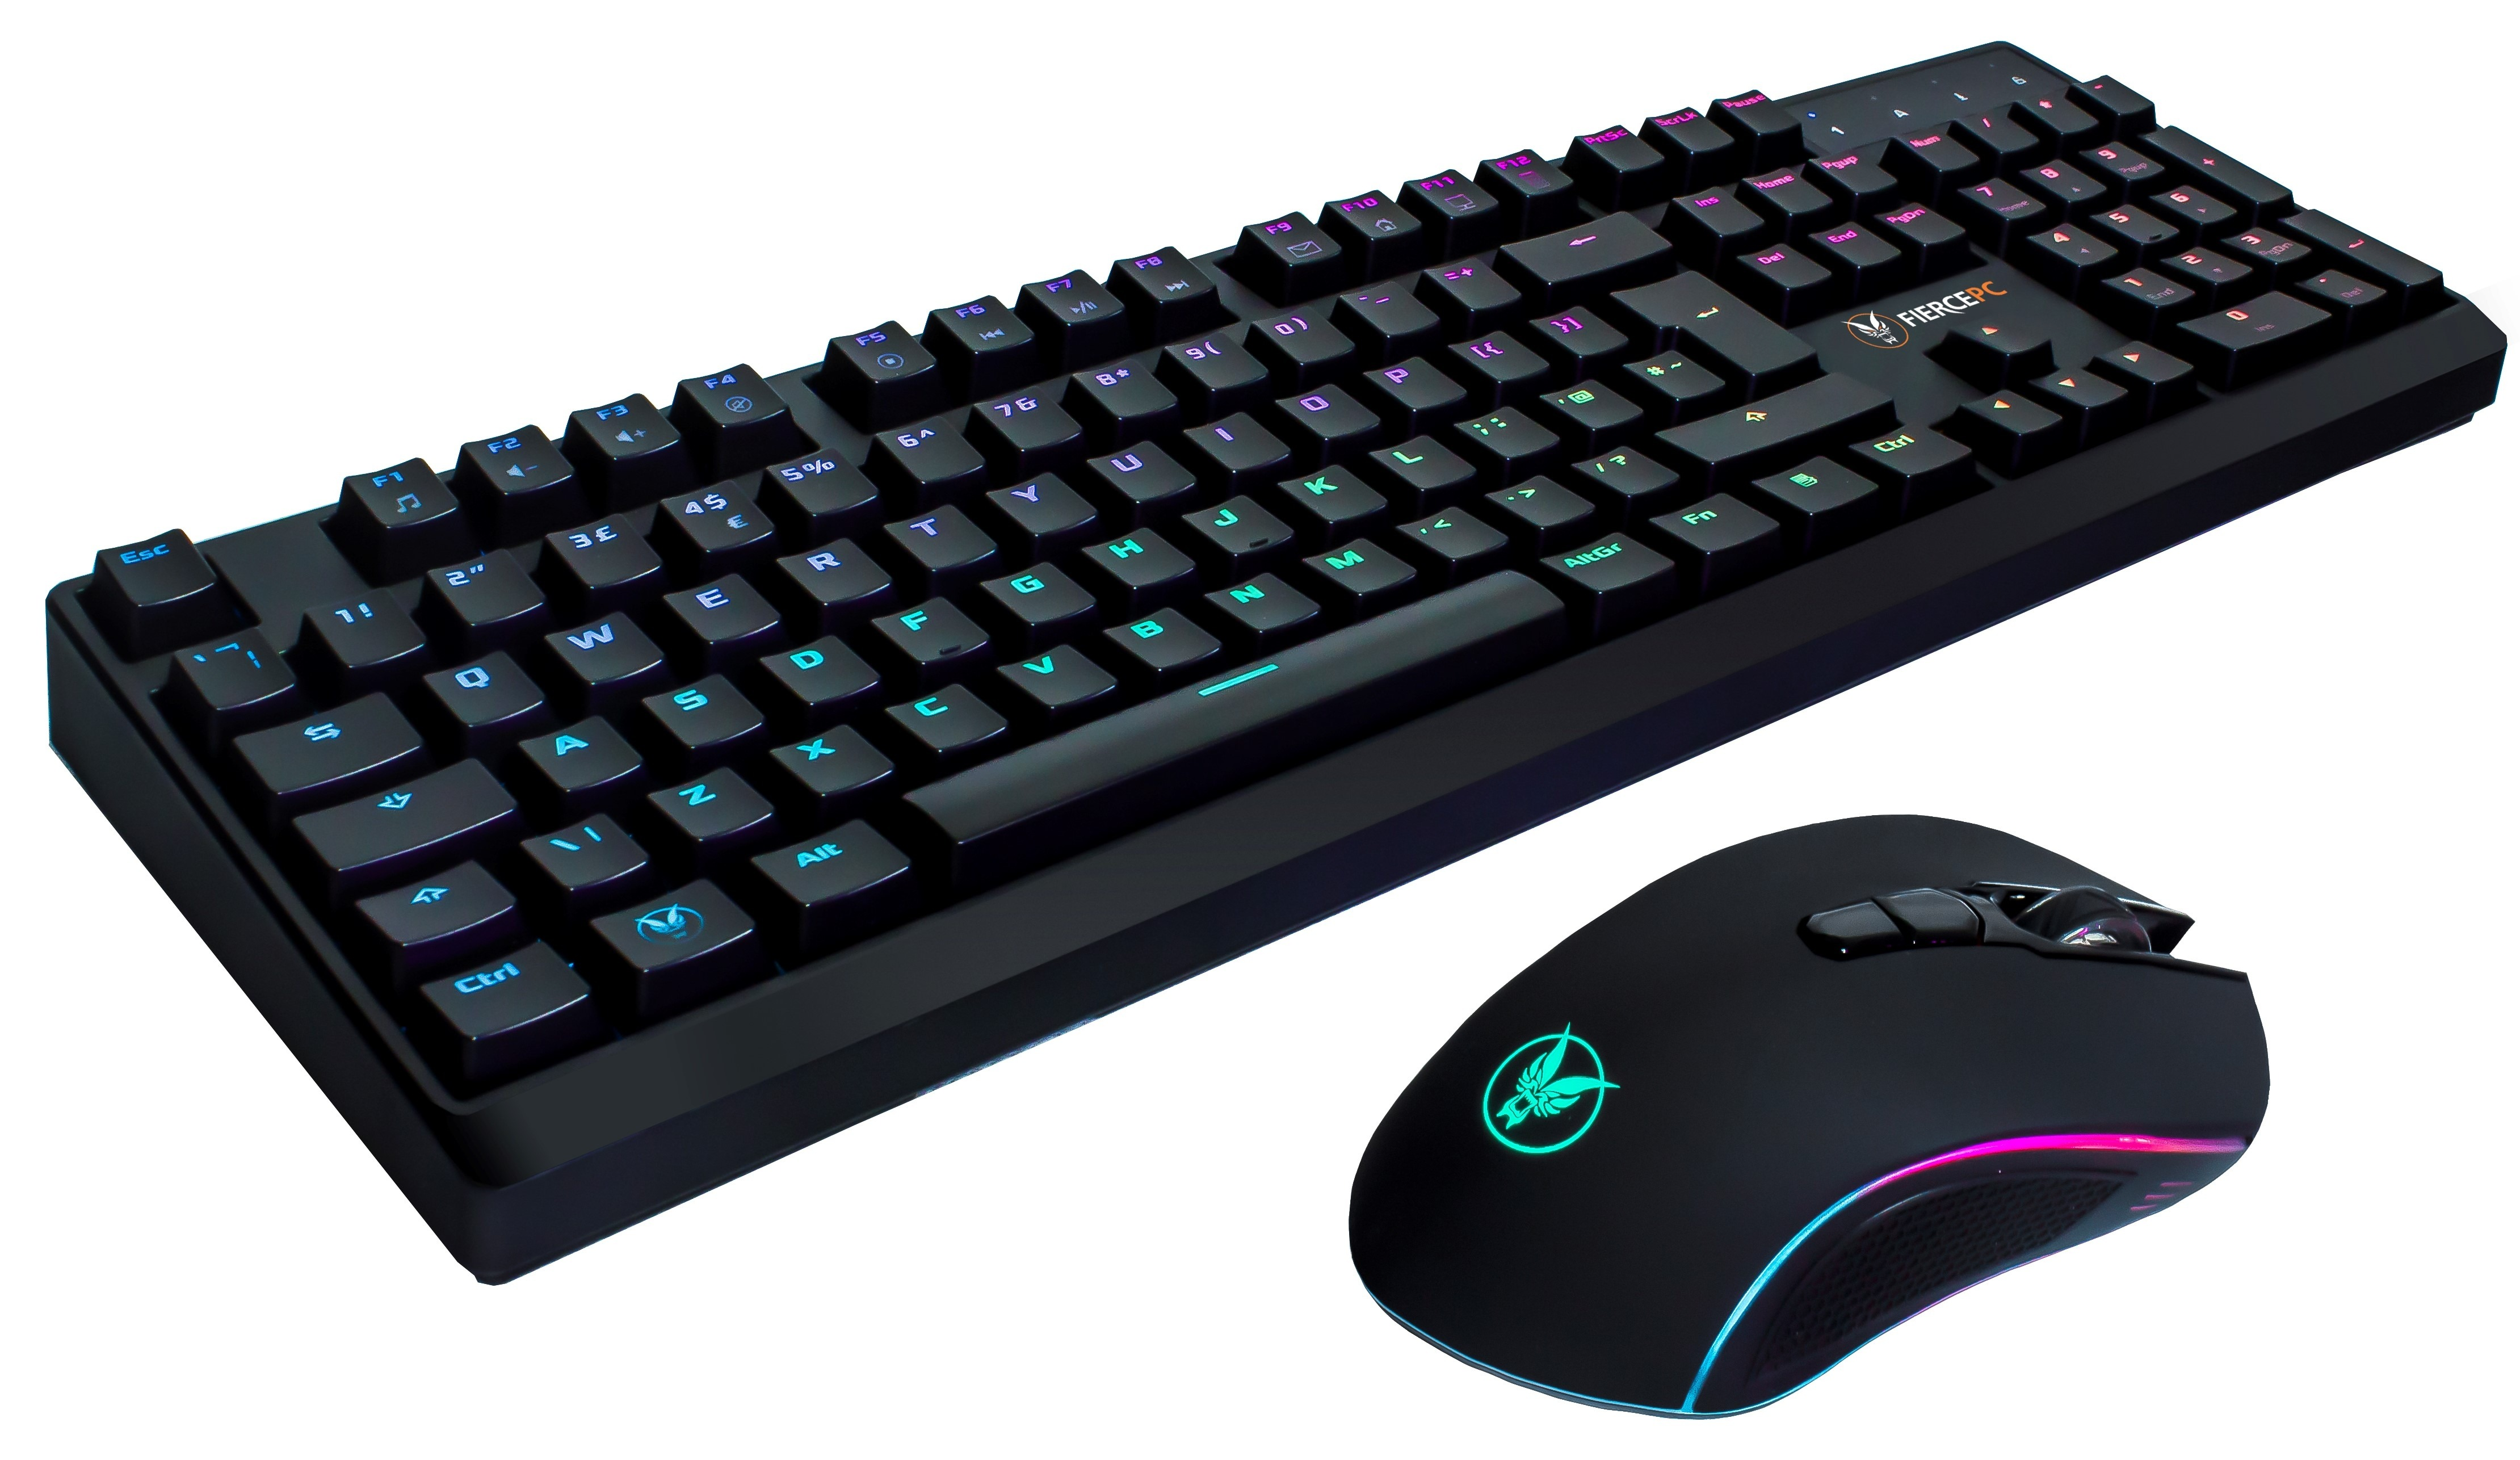keyboard: (2, 45, 2508, 1291)
mouse: (1302, 806, 2294, 1460)
